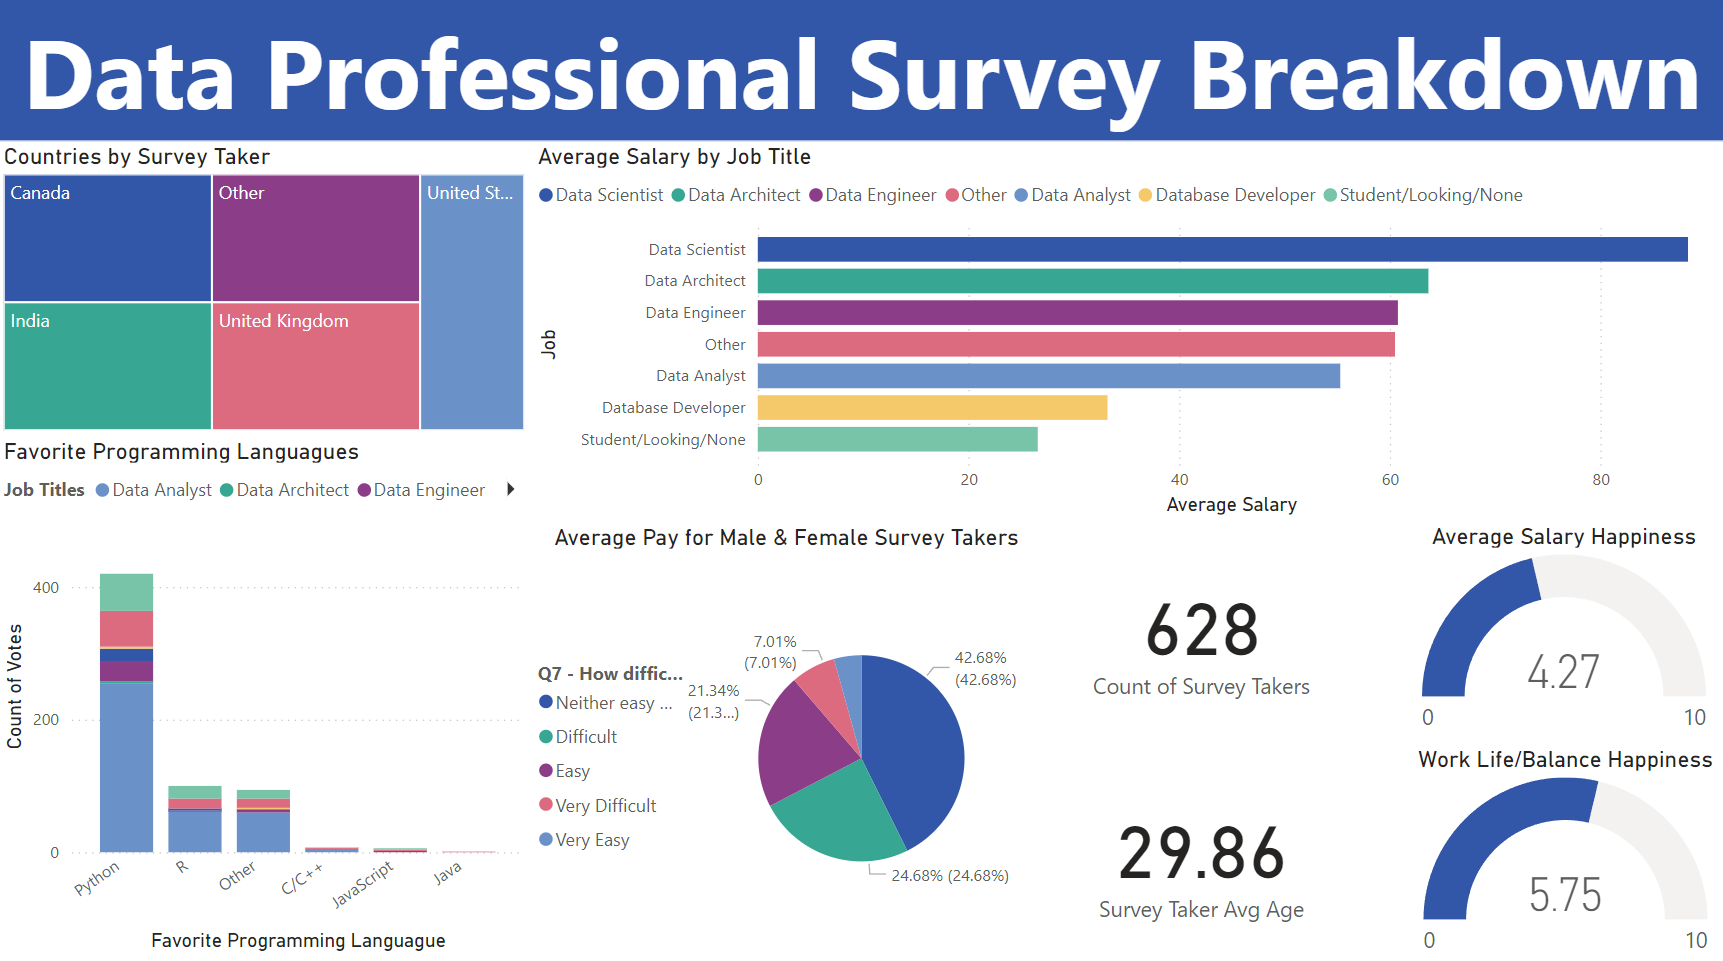

Layout of this report page (visuals, bound fields, positions):
{"tool":"powerbi","page":{"name":"Page 1","canvas":[1280,720],"ordinal":0},"visuals":[{"type":"textbox","box":[0,0,1280,108],"z":0},{"type":"card","fields":{"Values":["CountNonNull(Data Professional Survey.Unique ID)"]},"box":[774.1,397.8,236.3,149.6],"z":1000},{"type":"card","fields":{"Values":["Avg(Data Professional Survey.Q10 - Current Age)"]},"box":[774.1,563,236.3,149.6],"z":2000},{"type":"barChart","title":"Average Salary by Job Title","fields":{"Category":["Data Professional Survey.Q1 - Which Title Best Fits your Current Role?.1"],"Y":["Avg(Data Professional Survey.AVG SALARY)"],"Series":["Data Professional Survey.Q1 - Which Title Best Fits your Current Role?.1"]},"box":[395.6,108.1,882.2,281.5],"z":3000},{"type":"columnChart","title":"Favorite Programming Languagues","fields":{"Category":["Data Professional Survey.Q5 - Favorite Programming Language.1"],"Y":["CountNonNull(Data Professional Survey.Unique ID)"],"Series":["Data Professional Survey.Q1 - Which Title Best Fits your Current Role?.1"]},"box":[0,326.7,395.6,385.9],"z":4000},{"type":"treemap","fields":{"Group":["Data Professional Survey.Q11 - Which Country do you live in?.1"],"Values":["Count(Data Professional Survey.Q11 - Which Country do you live in?.1)"]},"box":[0,108.1,395.6,218.5],"z":5000},{"type":"gauge","title":"Work Life/Balance Happiness","fields":{"Y":["Avg(Data Professional Survey.Q6 - How Happy are you in your Current Position with the following? (Work/Life Balance))"],"MinValue":["Min(Data Professional Survey.Q6 - How Happy are you in your Current Position with the following? (Work/Life Balance))"],"MaxValue":["Max(Data Professional Survey.Q6 - How Happy are you in your Current Position with the following? (Work/Life Balance))1"]},"box":[1043.7,554.8,236.3,165.2],"z":6000},{"type":"gauge","title":"Average Salary Happiness","fields":{"Y":["Avg(Data Professional Survey.Q6 - How Happy are you in your Current Position with the following? (Salary))"],"MinValue":["Min(Data Professional Survey.Q6 - How Happy are you in your Current Position with the following? (Salary))"],"MaxValue":["Max(Data Professional Survey.Q6 - How Happy are you in your Current Position with the following? (Salary))"]},"box":[1043.7,389.6,234.1,165.2],"z":7000},{"type":"pieChart","title":"Average Pay for Male & Female Survey Takers","fields":{"Category":["Data Professional Survey.Q7 - How difficult was it for you to break into Data?"],"Series":["Data Professional Survey.Q7 - How difficult was it for you to break into Data?"],"Y":["CountNonNull(Data Professional Survey.Q7 - How difficult was it for you to break into Data?)"]},"box":[395.6,390.4,378.5,329.6],"z":8000}]}

Visuals, with their boxes in screenshot pixels (x1, y1, x2, y2), scaled from the page's 1280x720 canvas onto the 1723x961 screenshot:
textbox: {"x1": 0, "y1": 0, "x2": 1722, "y2": 144}
card - CountNonNull(Data Professional Survey.Unique ID): {"x1": 1042, "y1": 531, "x2": 1360, "y2": 731}
card - Avg(Data Professional Survey.Q10 - Current Age): {"x1": 1042, "y1": 751, "x2": 1360, "y2": 951}
"Average Salary by Job Title" barChart: {"x1": 533, "y1": 144, "x2": 1720, "y2": 520}
"Favorite Programming Languagues" columnChart: {"x1": 0, "y1": 436, "x2": 533, "y2": 951}
treemap - Data Professional Survey.Q11 - Which Country do you live in?.1 x Count(Data Professional Survey.Q11 - Which Country do you live in?.1): {"x1": 0, "y1": 144, "x2": 533, "y2": 436}
"Work Life/Balance Happiness" gauge: {"x1": 1405, "y1": 741, "x2": 1722, "y2": 960}
"Average Salary Happiness" gauge: {"x1": 1405, "y1": 520, "x2": 1720, "y2": 741}
"Average Pay for Male & Female Survey Takers" pieChart: {"x1": 533, "y1": 521, "x2": 1042, "y2": 960}
